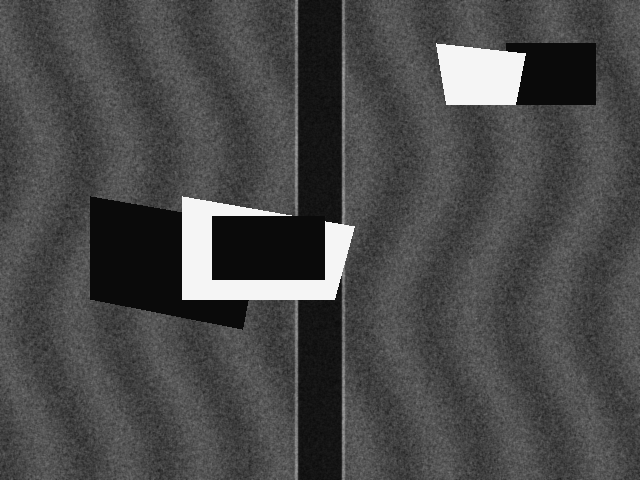Other Man-made Debris: (436, 43, 525, 104)
Ship/Boat Debris: (182, 196, 354, 299)
